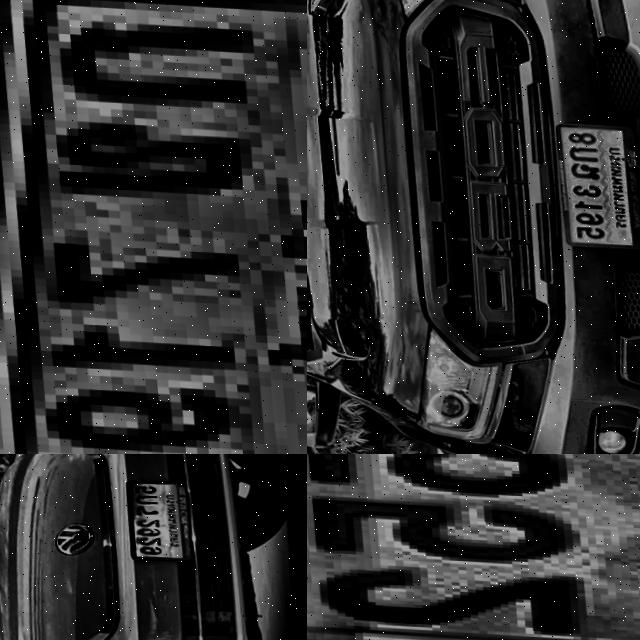license-plate: (0, 0, 307, 454), (307, 454, 640, 640), (545, 117, 638, 246), (121, 474, 189, 557)
